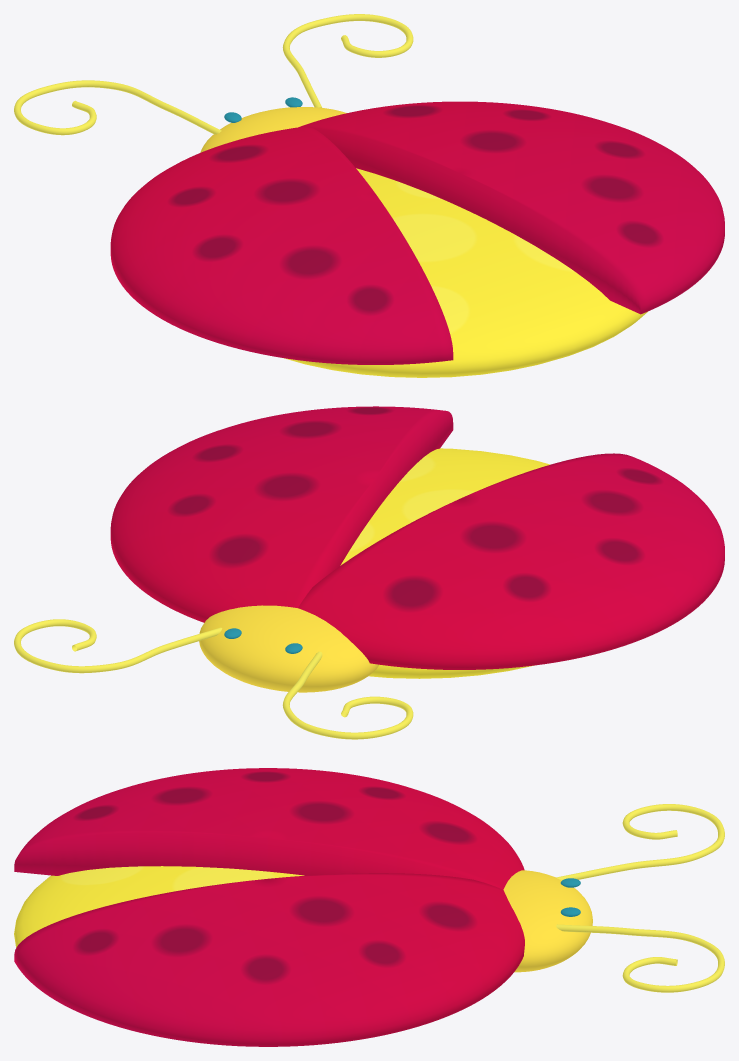
File: reference_ladybug.glb
3 renders of one model, top to bottom at view 1: azimuth 30°, elevation 25°; view 2: azimuth 150°, elevation 25°; view 3: azimuth 270°, elevation 25°, orthographic.
Parts seen in each view (by area): view 1: shell_left, shell_right, abdomen, antenna_left, head, antenna_right; view 2: shell_left, shell_right, head, abdomen, antenna_right, antenna_left; view 3: shell_right, shell_left, abdomen, head, antenna_right, antenna_left.
Boxes of the visible parts, bbox=[...] form: shell_left: bbox=[110, 127, 453, 364]; shell_right: bbox=[299, 101, 724, 314]; abdomen: bbox=[283, 168, 647, 377]; antenna_left: bbox=[14, 80, 221, 135]; head: bbox=[200, 107, 346, 152]; antenna_right: bbox=[282, 14, 413, 107]; shell_left: bbox=[298, 453, 724, 669]; shell_right: bbox=[110, 406, 453, 622]; head: bbox=[199, 605, 379, 692]; abdomen: bbox=[340, 448, 549, 678]; antenna_right: bbox=[14, 619, 222, 673]; antenna_left: bbox=[282, 651, 413, 739]; shell_right: bbox=[14, 873, 524, 1046]; shell_left: bbox=[14, 768, 524, 889]; abdomen: bbox=[14, 866, 304, 947]; head: bbox=[503, 870, 592, 972]; antenna_right: bbox=[556, 924, 724, 992]; antenna_left: bbox=[556, 804, 724, 880].
Size of the model in its own units: 1.16 by 0.247 by 1.34.
5 materials, 2 textured.
